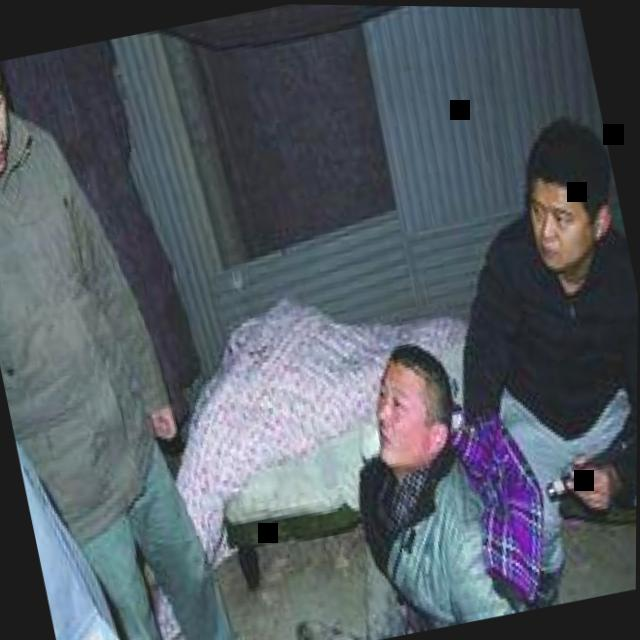Fall-Detected: (270, 280, 616, 640)
